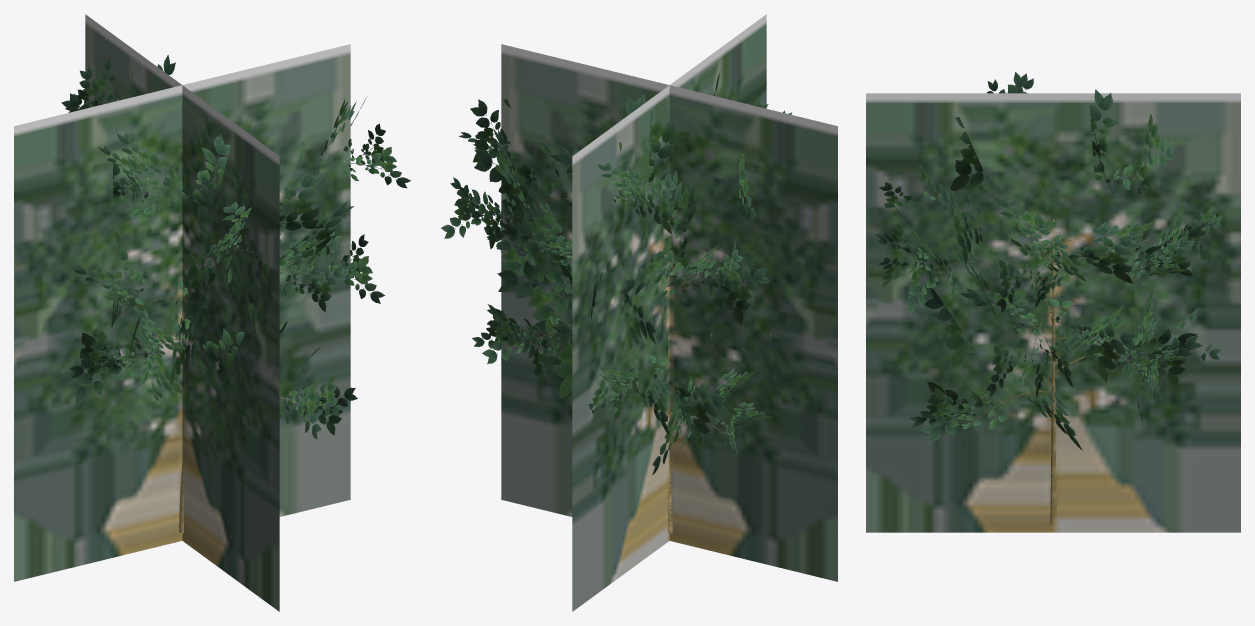
The model's file is Shrub1-1A.fbx.
3 renders of one model, left to right at view 1: azimuth 30°, elevation 25°; view 2: azimuth 150°, elevation 25°; view 3: azimuth 270°, elevation 25°, orthographic. The views are drawn at different scales.
Visible parts, largest first — view 1: Billboard-Shrub1-1A, Shrub1-1A_LOD0; view 2: Billboard-Shrub1-1A, Shrub1-1A_LOD0; view 3: Billboard-Shrub1-1A, Shrub1-1A_LOD0.
Boxes of the visible parts, <box> form: Billboard-Shrub1-1A: <box>14,14,350,611</box>; Shrub1-1A_LOD0: <box>61,55,410,533</box>; Billboard-Shrub1-1A: <box>501,14,837,611</box>; Shrub1-1A_LOD0: <box>441,71,792,533</box>; Billboard-Shrub1-1A: <box>866,93,1240,532</box>; Shrub1-1A_LOD0: <box>876,72,1225,525</box>.
Size of what is drawn, in the model's own units: 285 by 336 by 252.
